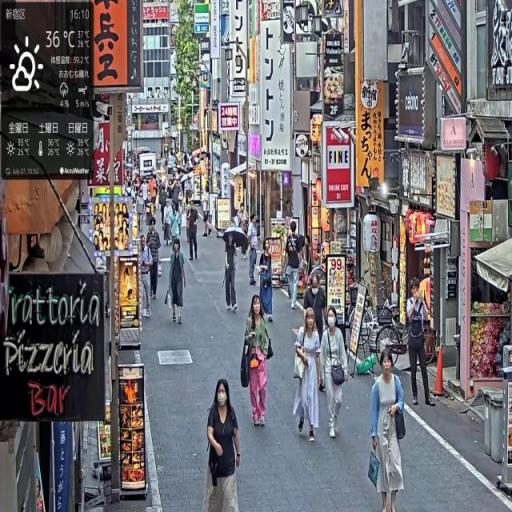person: (370, 349, 407, 512), (206, 377, 243, 512), (240, 295, 275, 431), (294, 307, 324, 443), (321, 305, 351, 441), (283, 220, 305, 313), (168, 238, 189, 327), (223, 232, 242, 315), (258, 238, 275, 326), (139, 235, 154, 322), (148, 219, 163, 301), (248, 213, 261, 287), (187, 201, 201, 263)
